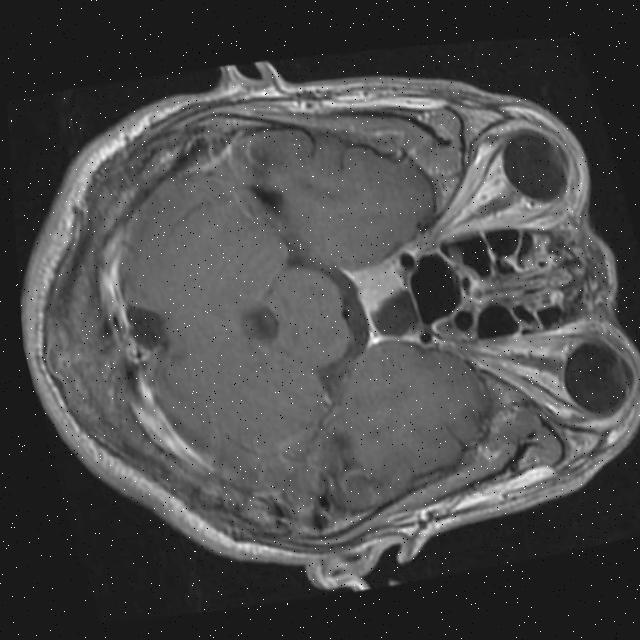Pituitary: (352, 271, 426, 346)
